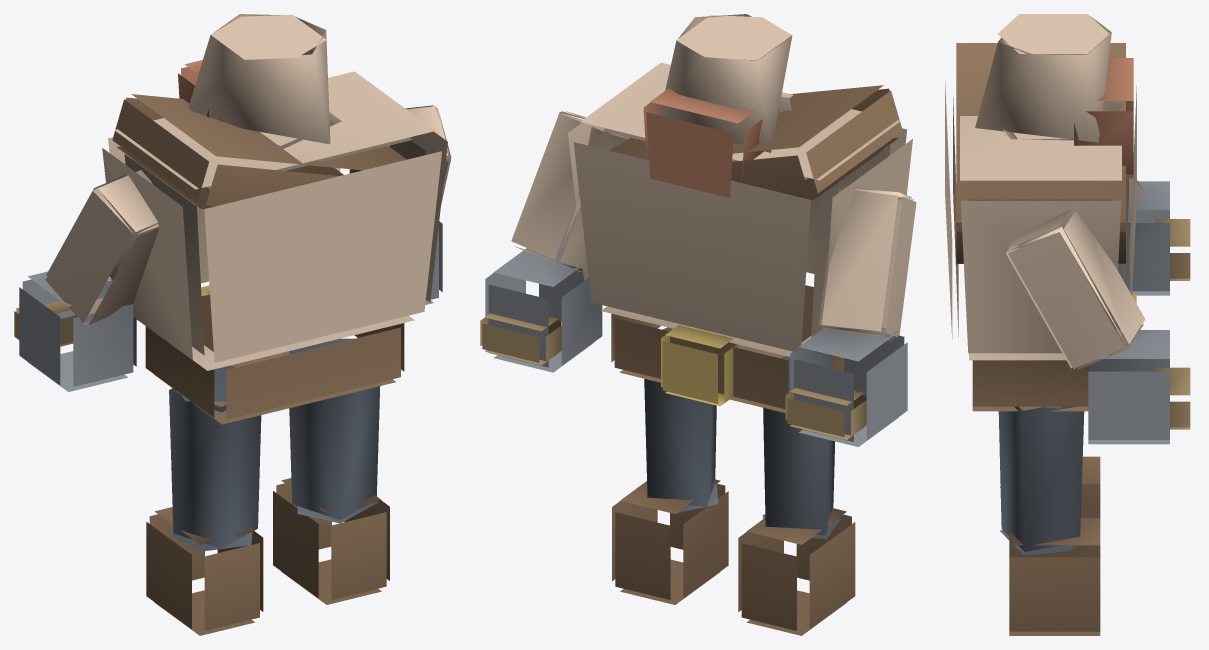
The model's file is formula_giant_lod2.glb.
3 views of the same model, side by side, from view 1: azimuth 30°, elevation 25°; view 2: azimuth 150°, elevation 25°; view 3: azimuth 270°, elevation 25° (orthographic).
Visible parts, largest first — view 1: formula_giant.001; view 2: formula_giant.001; view 3: formula_giant.001.
Part boxes in pixels (bbox=[...]): formula_giant.001: bbox=[14, 14, 451, 635]; formula_giant.001: bbox=[480, 14, 916, 635]; formula_giant.001: bbox=[945, 14, 1190, 635].
Size of the model in its own units: 1.4 by 1.97 by 0.7959.
